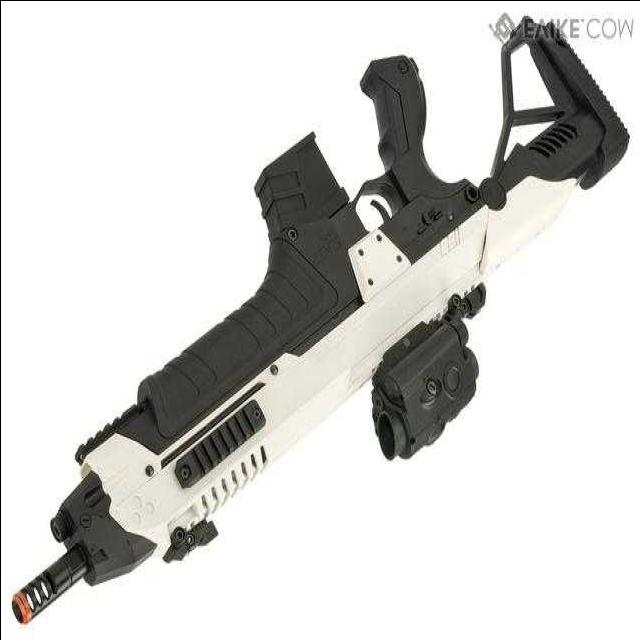heavyweapon: (9, 32, 635, 622)
